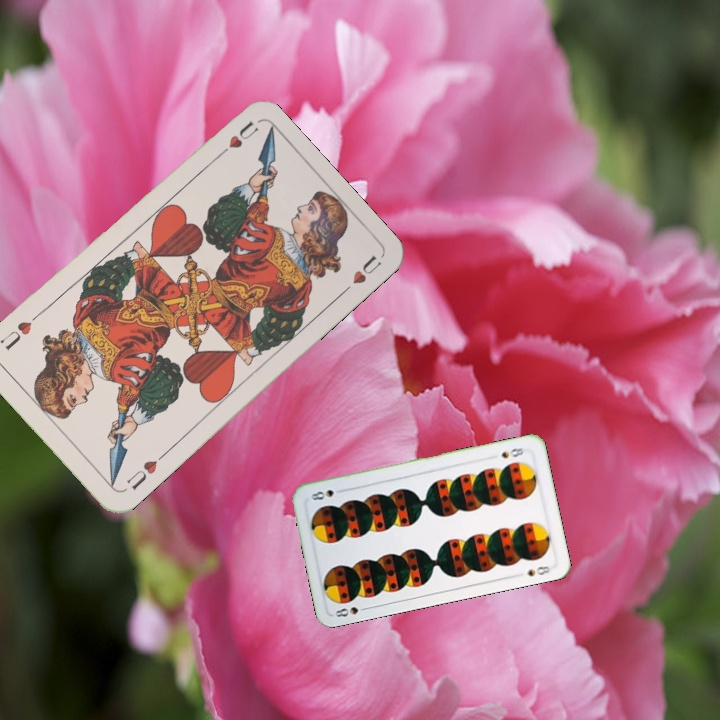HU: (211, 117, 261, 162), (122, 449, 168, 493)
S8: (331, 603, 371, 620), (497, 444, 526, 461)
